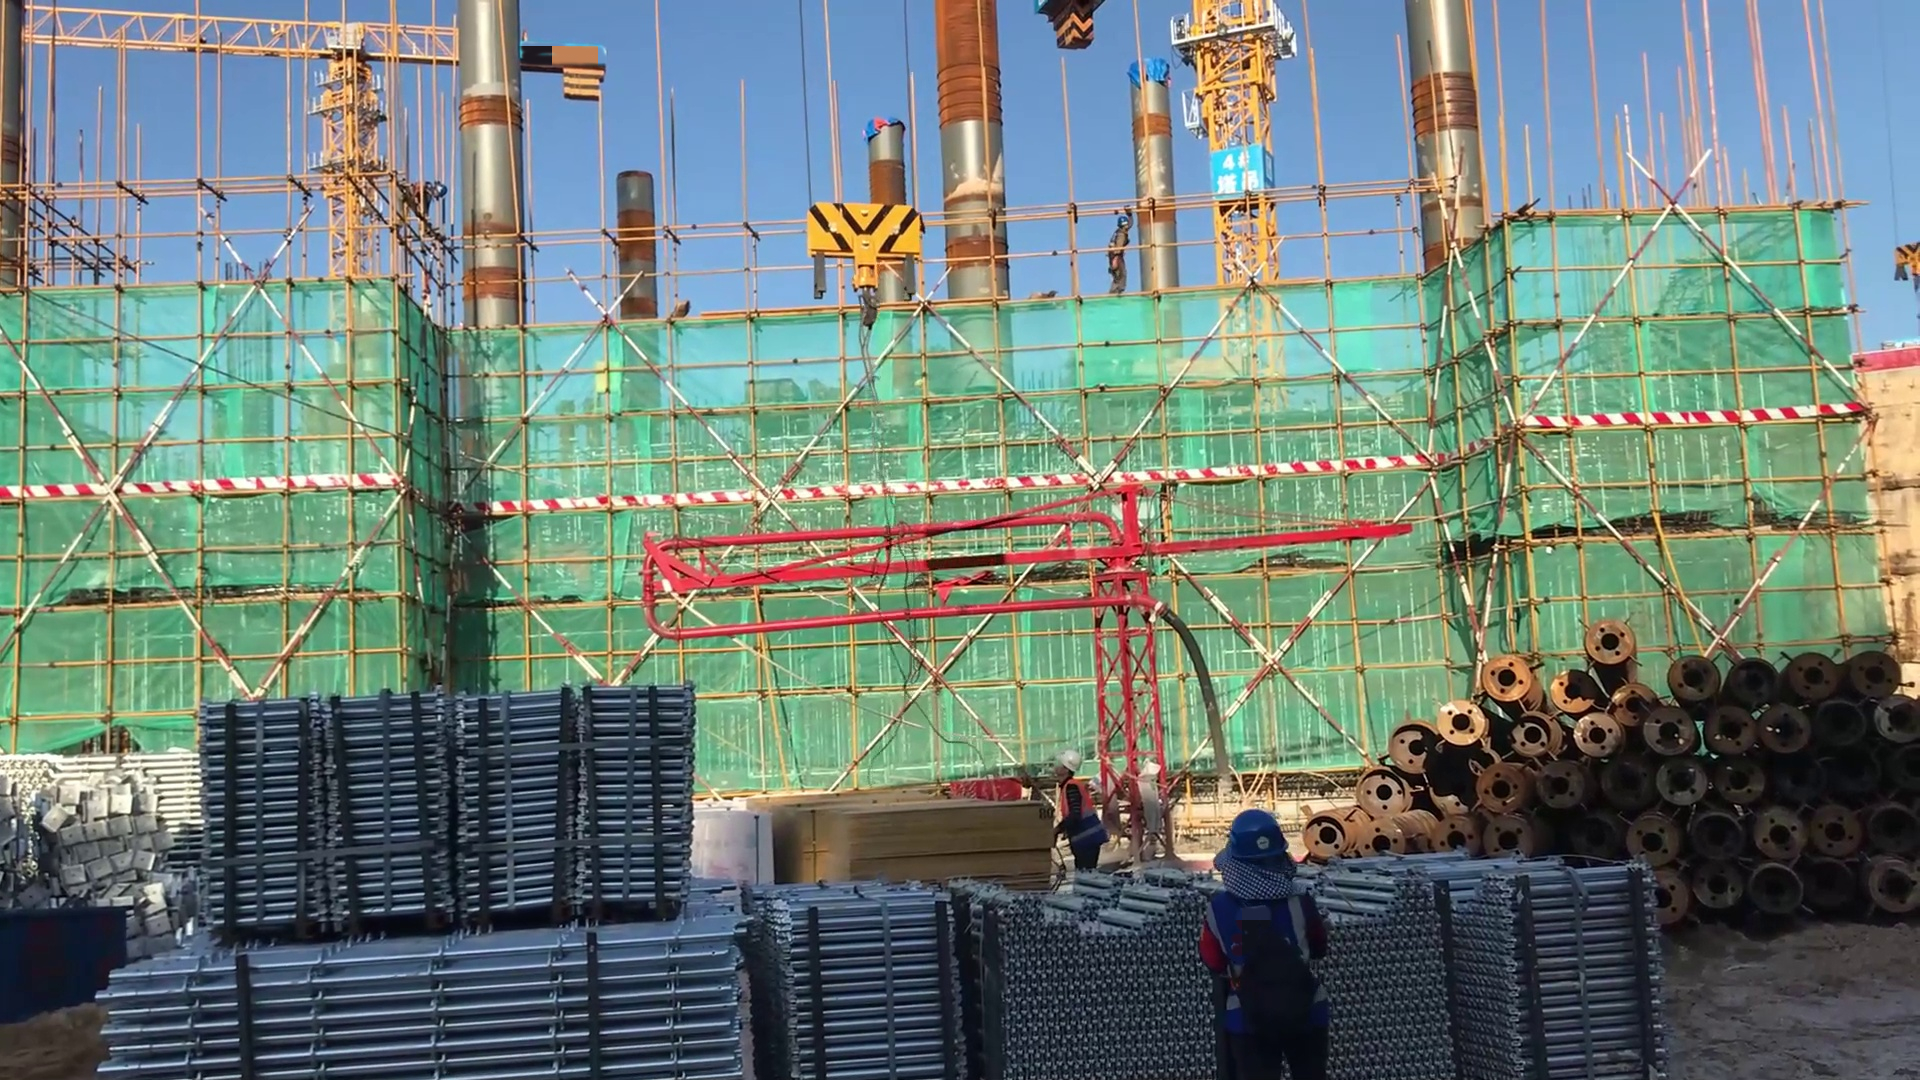board: (740, 794, 1054, 899)
helmet: (1227, 810, 1295, 860), (1061, 751, 1084, 771), (1114, 214, 1134, 229)
hook: (793, 167, 951, 410)
person: (1192, 808, 1338, 1080), (1049, 749, 1112, 886), (1110, 204, 1134, 298)
scaffold: (198, 685, 684, 916), (100, 932, 745, 1080), (1313, 844, 1676, 1080), (976, 877, 1186, 1080), (765, 884, 967, 1080)
slogan: (1216, 138, 1273, 207)
vest: (1199, 887, 1336, 1042), (1056, 779, 1111, 846)
